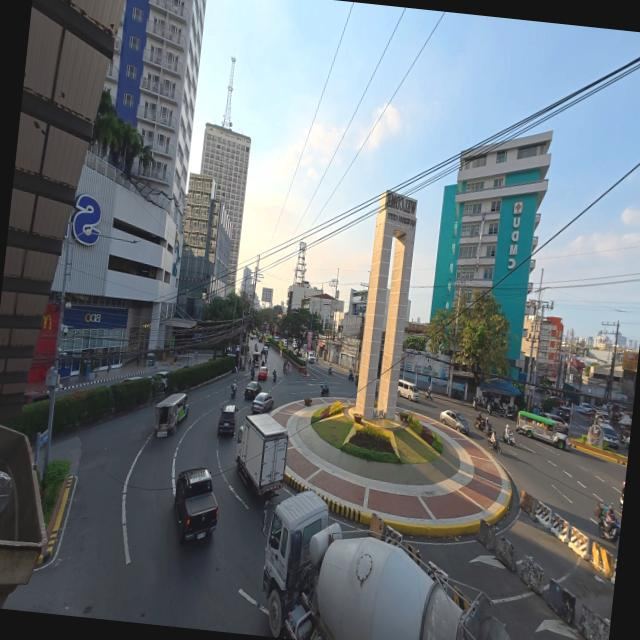Jeepneys: (515, 411, 569, 448), (154, 393, 187, 436), (251, 352, 259, 366)
car: (440, 410, 468, 433), (217, 405, 235, 435), (544, 414, 568, 435), (600, 423, 618, 448), (251, 393, 272, 413), (22, 391, 48, 404), (243, 382, 260, 399), (152, 370, 168, 387), (556, 406, 570, 424), (256, 365, 268, 381), (594, 412, 609, 424), (119, 376, 142, 383), (580, 403, 592, 414), (572, 405, 585, 415), (624, 434, 632, 450), (304, 351, 314, 363), (280, 340, 286, 347), (273, 336, 279, 342), (250, 334, 254, 340), (258, 337, 262, 342)
motorcycle: (594, 504, 620, 550), (486, 400, 502, 414), (502, 429, 514, 446), (489, 436, 500, 454), (502, 406, 515, 420), (482, 422, 492, 438), (472, 397, 484, 410), (619, 481, 624, 510), (473, 417, 483, 430), (424, 391, 433, 402), (320, 385, 328, 397), (230, 389, 235, 398), (348, 372, 353, 381), (354, 375, 358, 385), (250, 370, 254, 380), (272, 371, 275, 382), (328, 365, 331, 375)
trucks: (262, 492, 508, 639), (235, 414, 287, 494), (173, 468, 217, 541)
vans: (397, 379, 418, 401)
